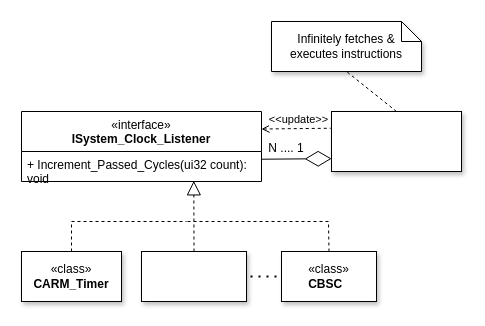
Some shapes in this 485 by 326 pixel diagram are drawn without their labels. Here are the shapes that lost their labels. From the top down, the centre of each, then its label:
point (397, 142): «class» CARM1176JZF_S
point (194, 277): «class» CAUX
